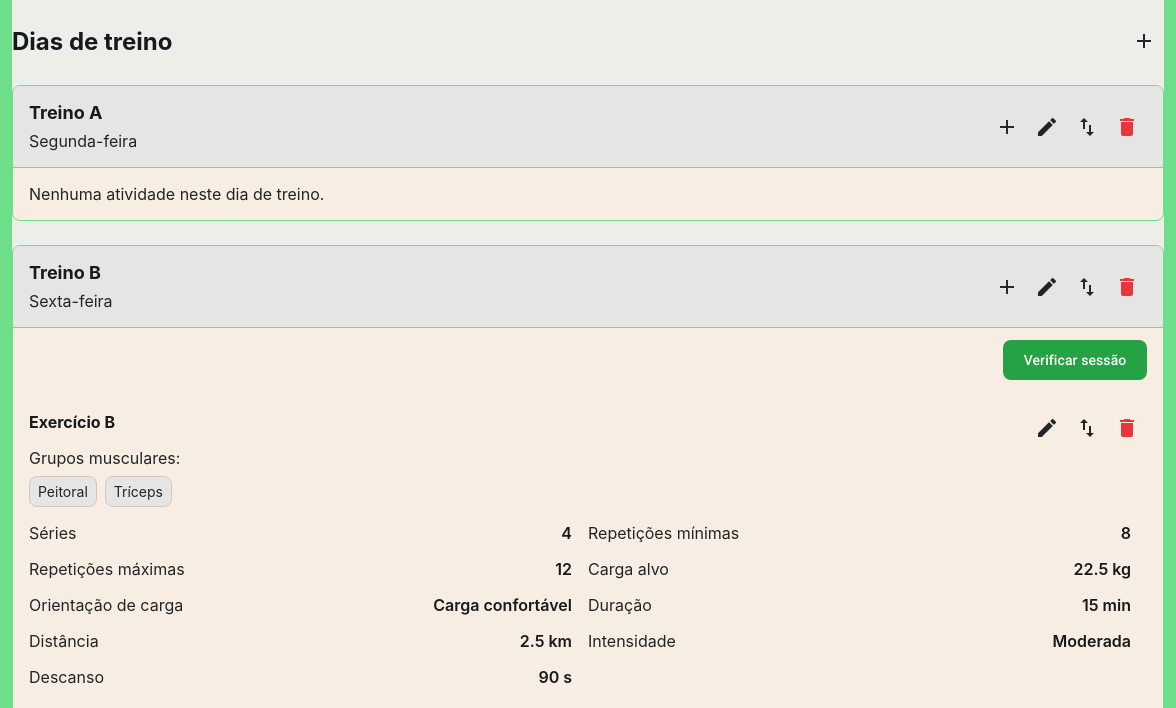
Test case: WorkoutCycleDetailComponent session start with HTTP › keeps uncertain opening error 0 in recovery mode until a successful read allows retry
(page scrolled)
Click the button "Verificar sessão" at (1075, 360), box [1003,340,1147,380]
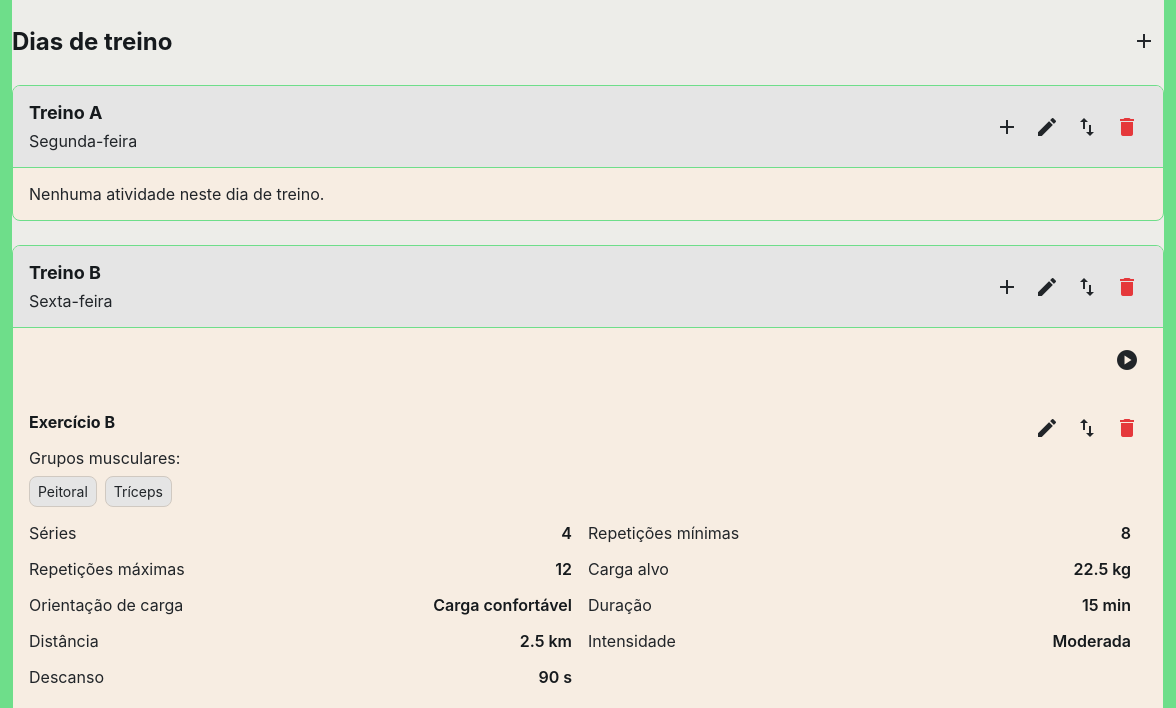
expect the button named "Iniciar sessão" is shown: met, box [1107,340,1147,380]
